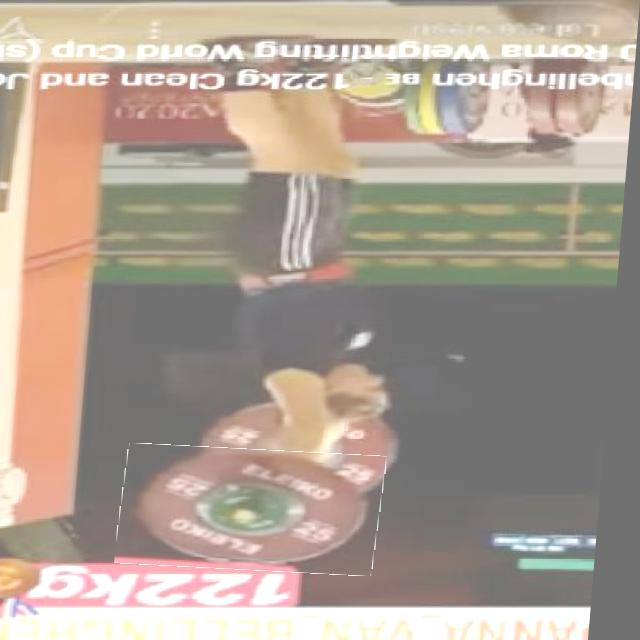barbell: (125, 447, 395, 573)
